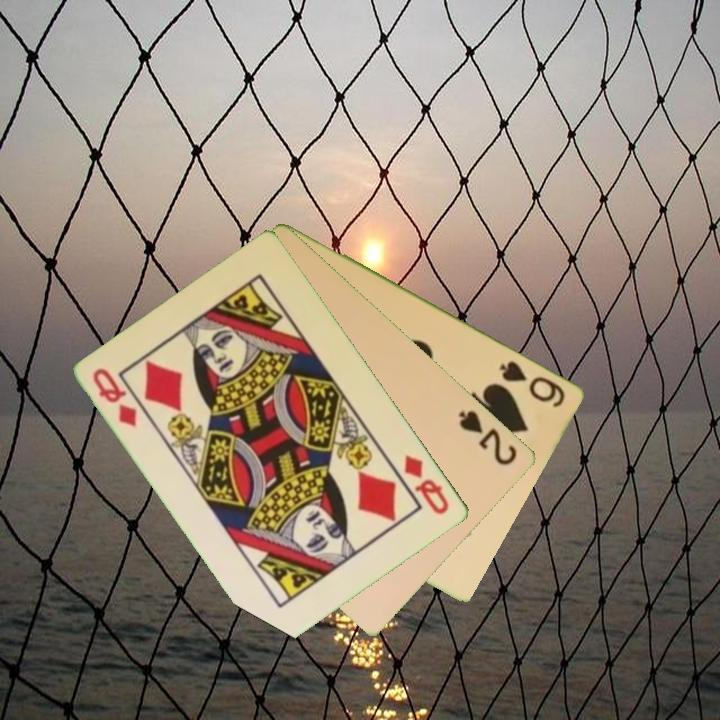2s: (455, 406, 521, 469)
6s: (496, 357, 569, 411)
Qd: (401, 451, 453, 518), (89, 364, 141, 430)
